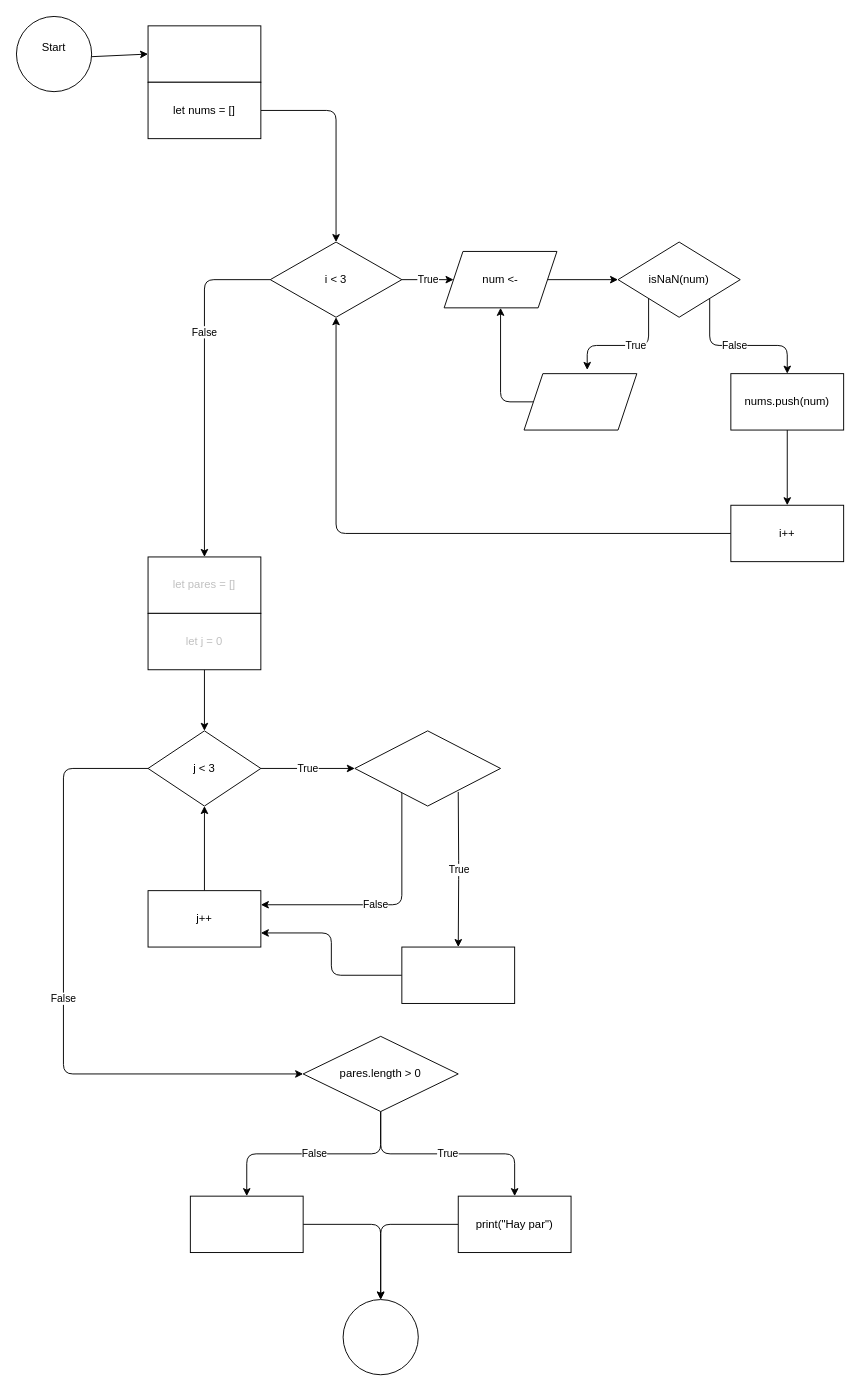
The diagram is 860 pixels wide and 1391 high, and some of its shapes have lost their labels. The box of each missing label's shape, as (x1, y1, x2, y2) in pixels:
End: (342, 1299, 418, 1375)
let i = 0: (147, 25, 261, 82)
nums[j] % 2 === 0: (354, 730, 501, 806)
pares.push(nums[j]): (401, 946, 515, 1003)
print("NaN"): (523, 373, 637, 430)
print("No hay par"): (189, 1195, 303, 1253)
